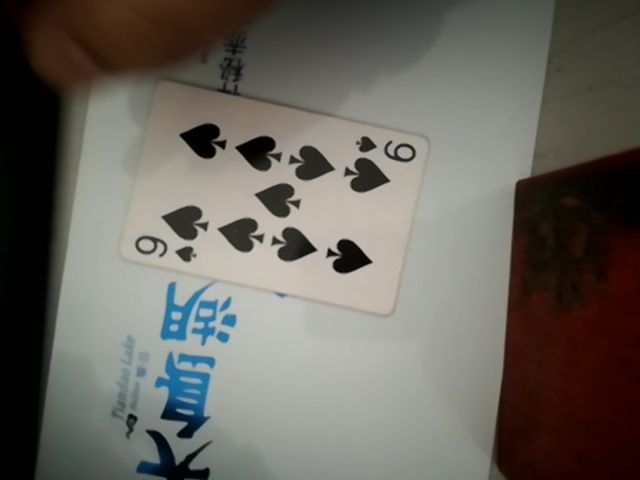ht 9: (124, 80, 421, 315)
